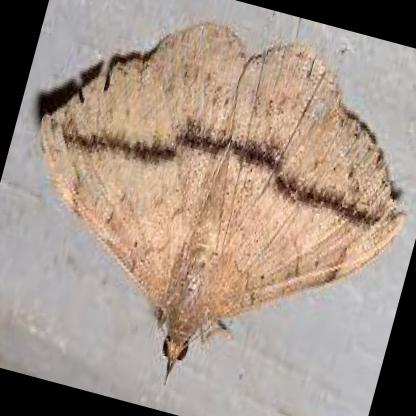Leaf Webber: (36, 16, 401, 387)
